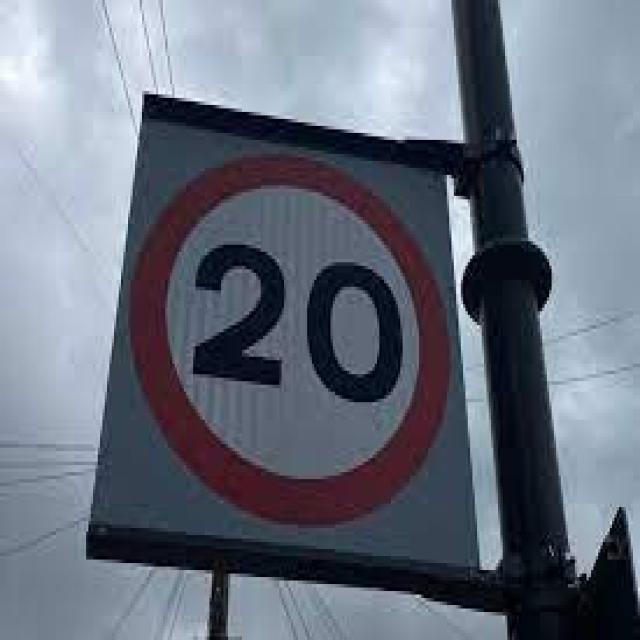SPEED_LIMIT_20: (118, 143, 464, 533)
